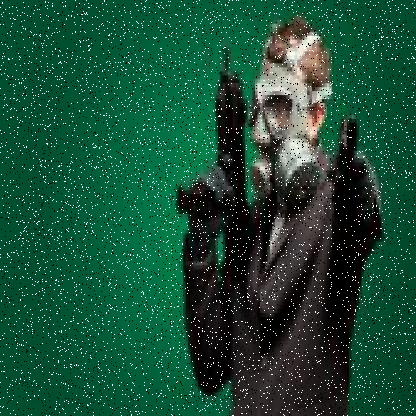pistol: (327, 103, 359, 218)
